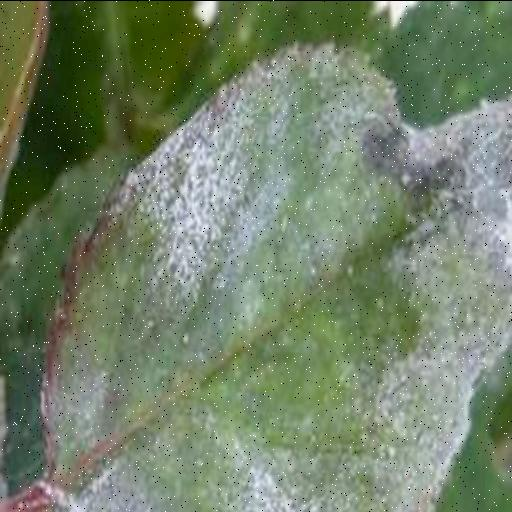powdery_mildew: (0, 43, 512, 512)
